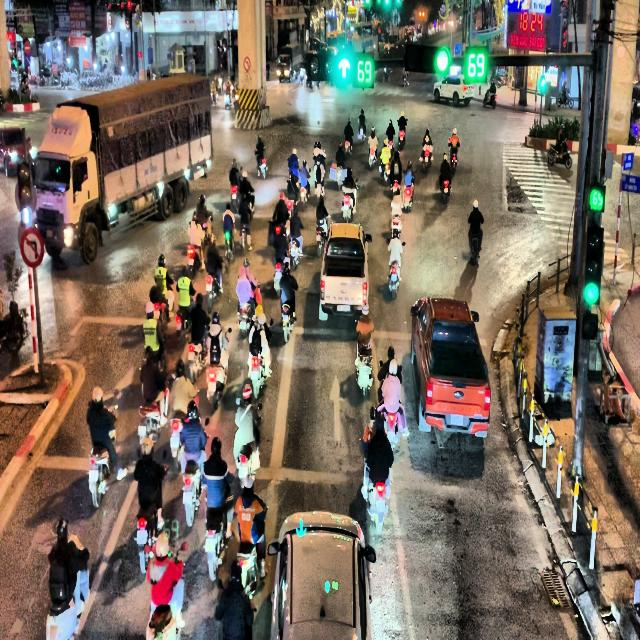lisence_plate: (449, 412, 464, 427), (335, 303, 352, 313)
